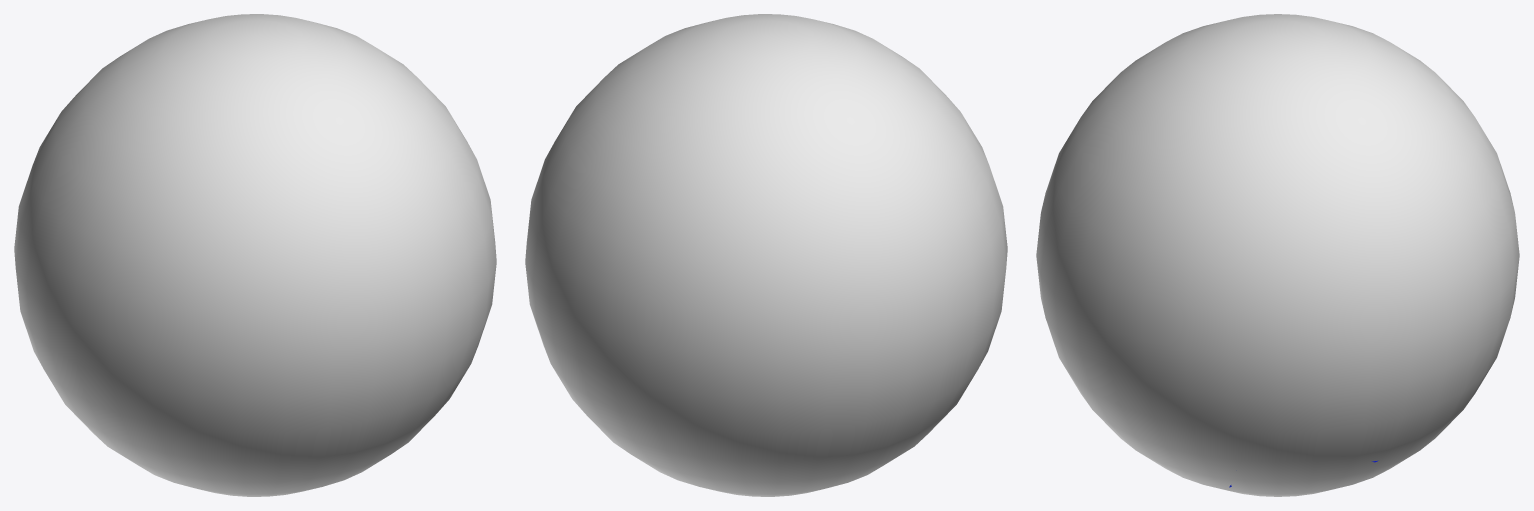
File: Fuel.fbx
The picture shows the model from 3 angles, left to right: view 1: azimuth 30°, elevation 25°; view 2: azimuth 150°, elevation 25°; view 3: azimuth 270°, elevation 25°; orthographic projection.
Parts seen in each view (by area): view 1: Sphere; view 2: Sphere; view 3: Sphere.
Boxes of the visible parts, left/top/right/bottom form: Sphere: left=14, top=14, right=496, bottom=496; Sphere: left=525, top=14, right=1007, bottom=496; Sphere: left=1036, top=14, right=1519, bottom=496.
Size of the model in its own units: 1 by 1 by 1.
